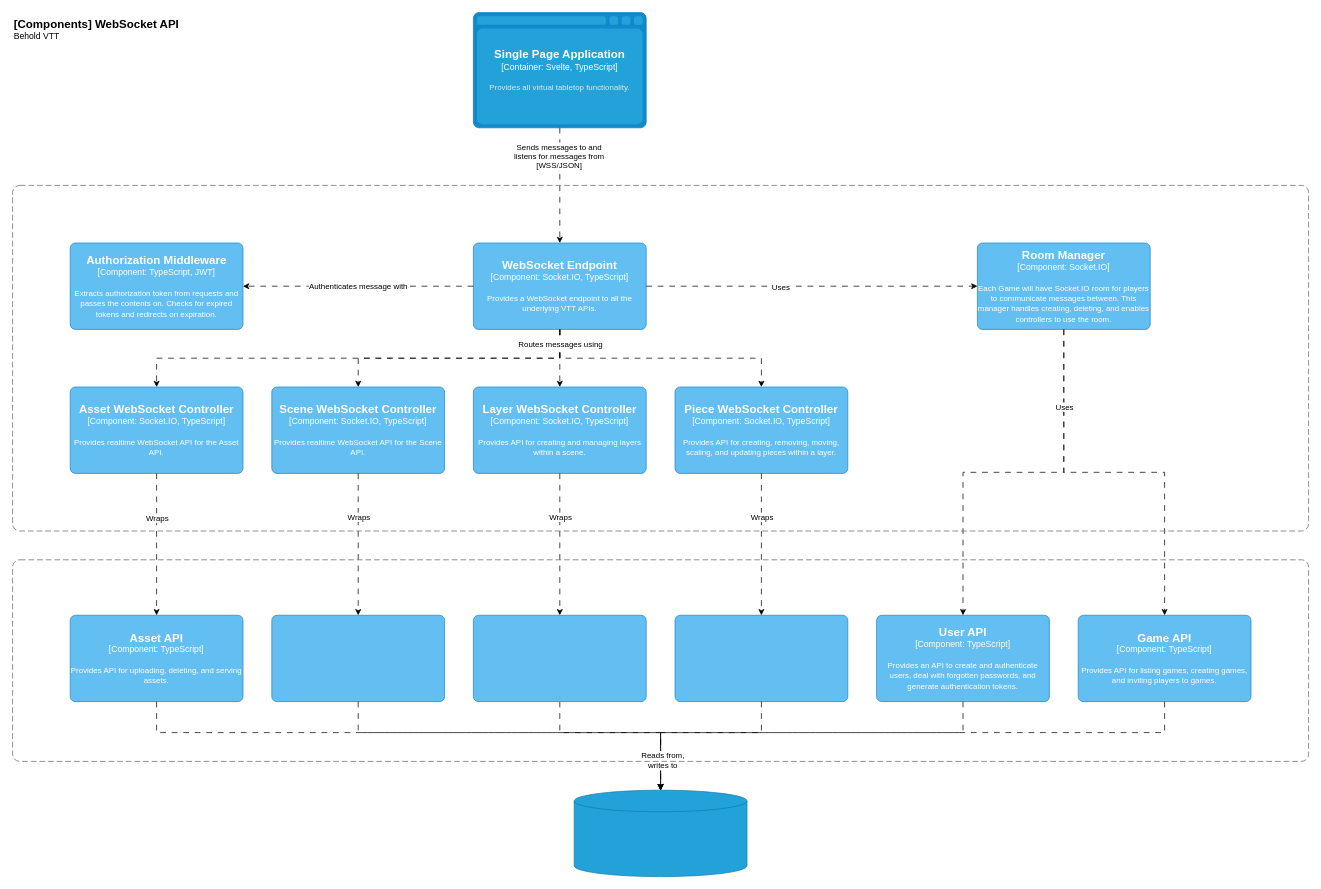
The diagram is 1321 pixels wide and 889 high, and some of its shapes have lost their labels. Here are the shapes that lost their labels. From the top down, the box of each, then its label:
(12, 185, 1309, 531): WebSocket API [Container]
(271, 615, 445, 702): Scene API [Component: TypeScript] Provides API for managing a game's scenes.
(473, 615, 646, 702): Layer API [Component: TypeScript] Provides API for managing a scene's layers.
(12, 559, 1309, 761): Database API [Container]
(674, 615, 848, 702): Piece API [Component: TypeScript] Provides API for managing a layer's pieces.
(573, 789, 747, 877): Database [Container: PostgreSQL] Persists all application data except files.
